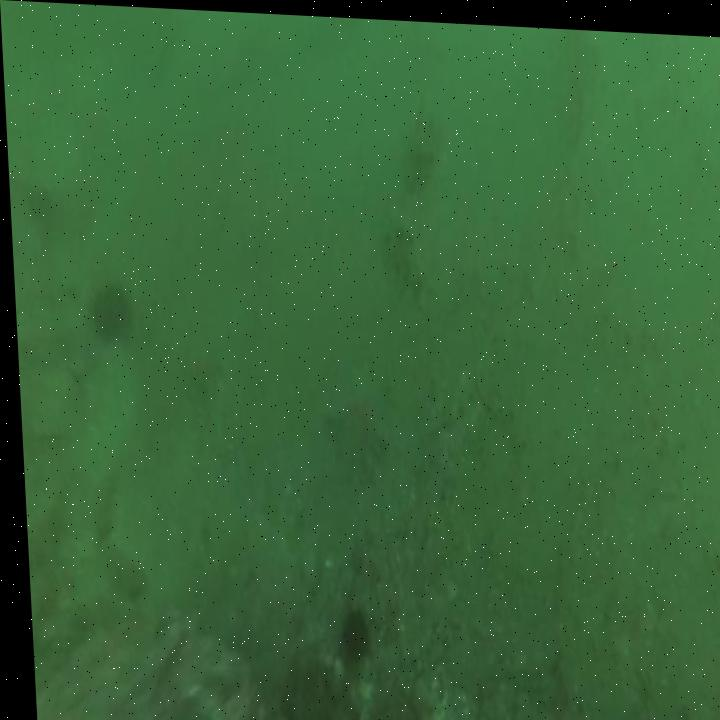echinus: (87, 289, 126, 341), (336, 608, 359, 657)
starfish: (326, 361, 382, 443)
